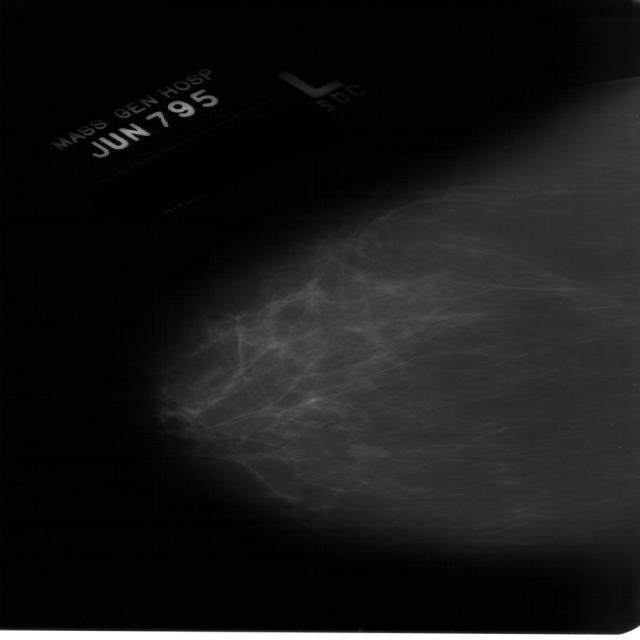tumour: (343, 443, 388, 459)
